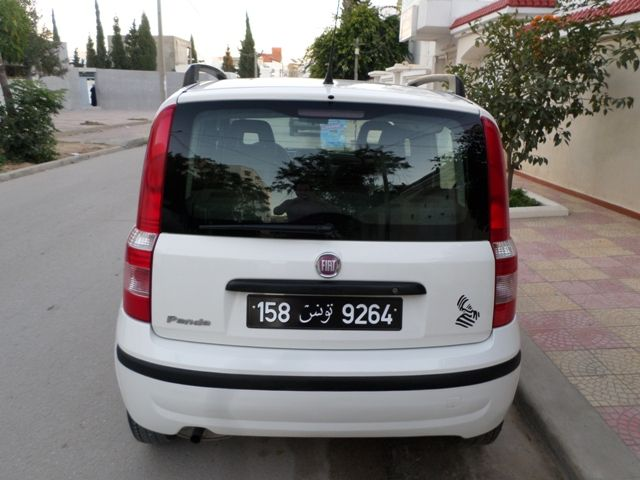LP: (245, 292, 405, 333)
